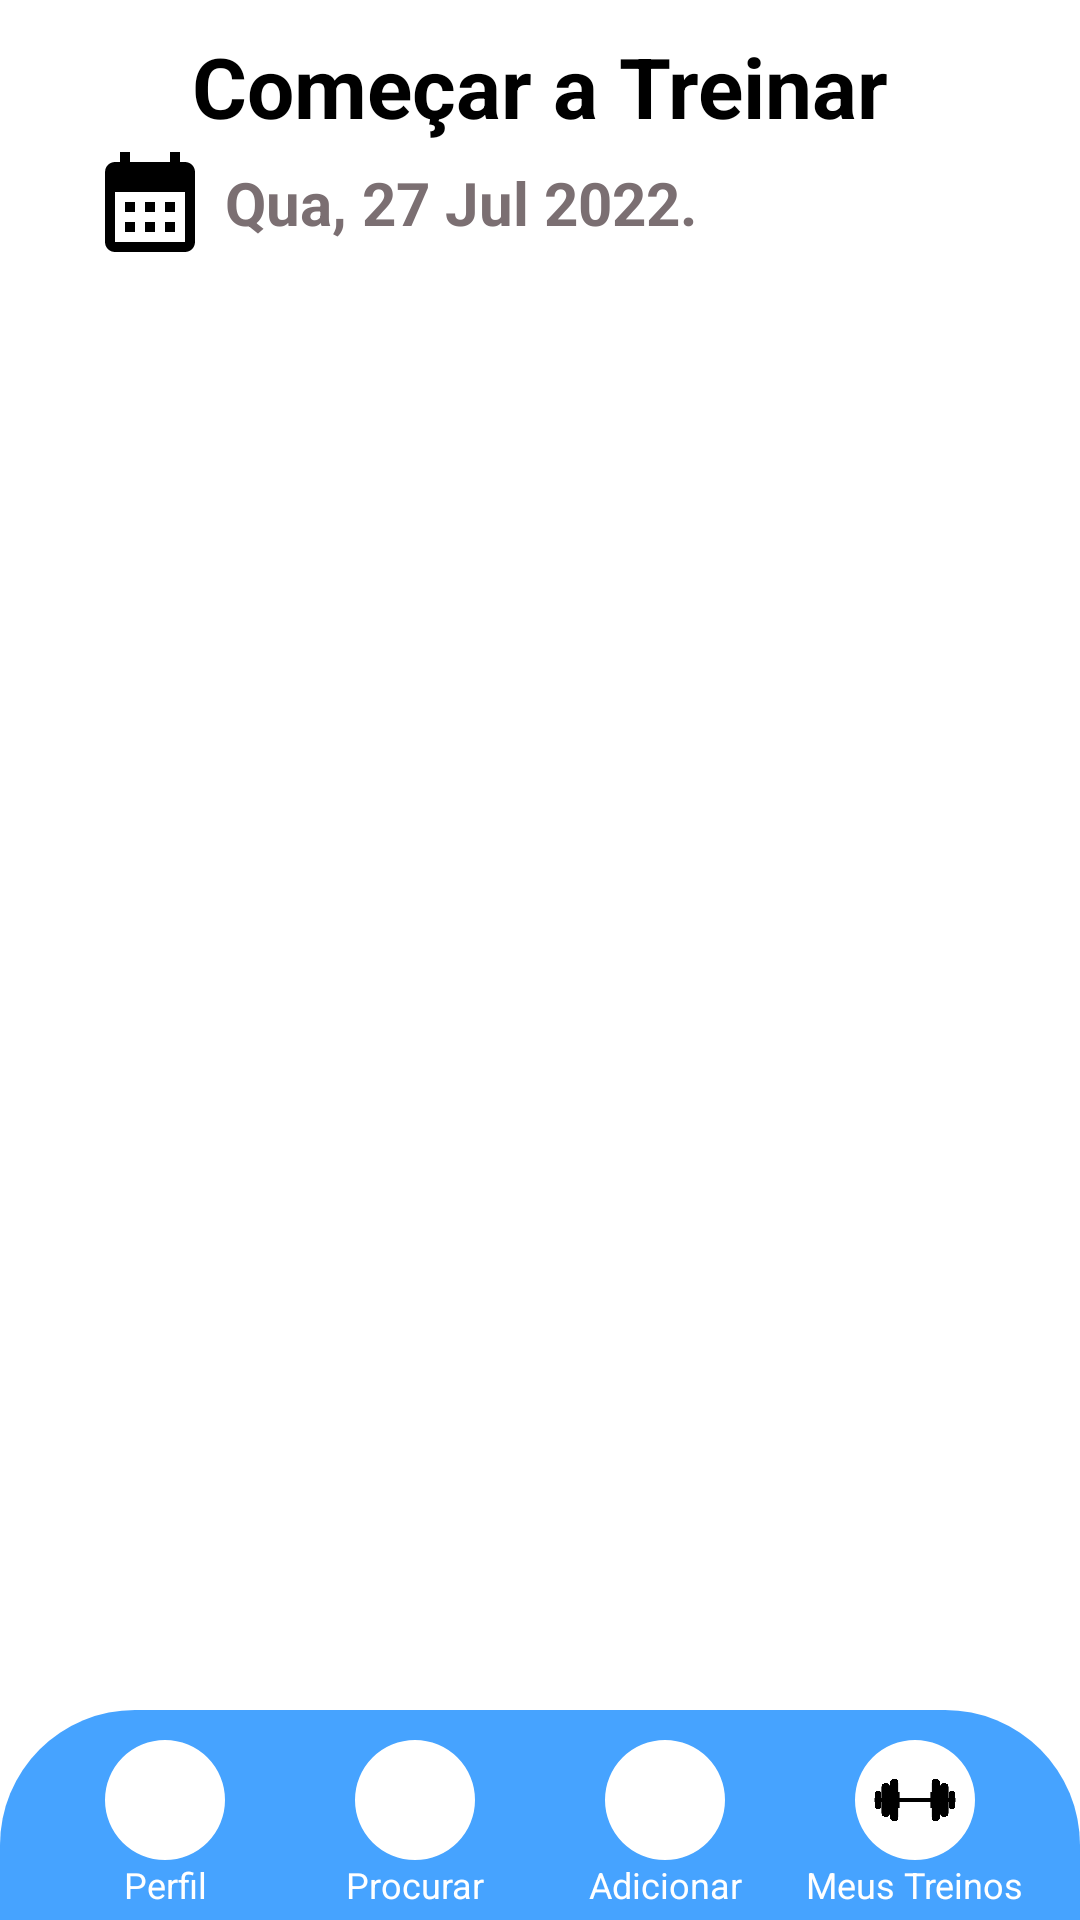

Icon click points for this 1080x1920 phone screenshot, format (x,y):
calendar: (150,202)
